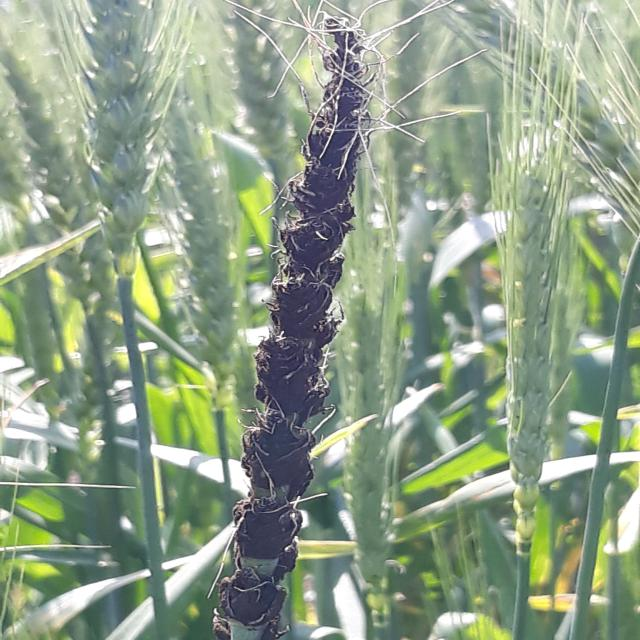loose_charred: (172, 7, 435, 640)
yellow_rust: (526, 484, 615, 620)
